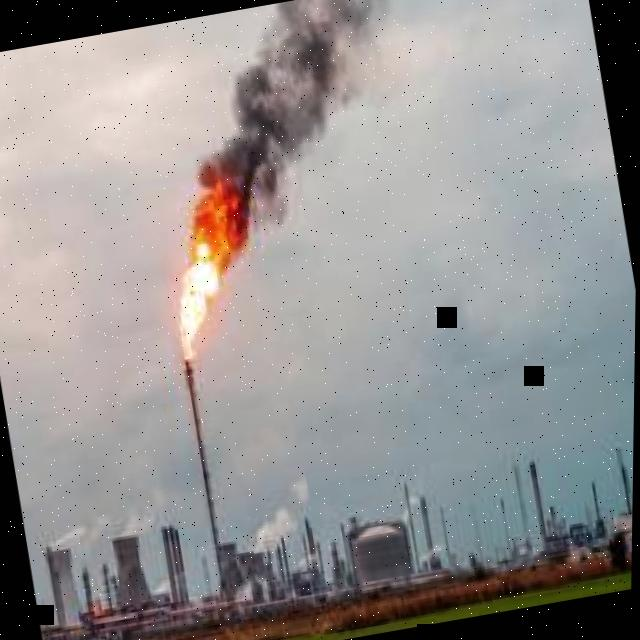fire: (180, 178, 247, 358)
smoke: (198, 0, 388, 239)
